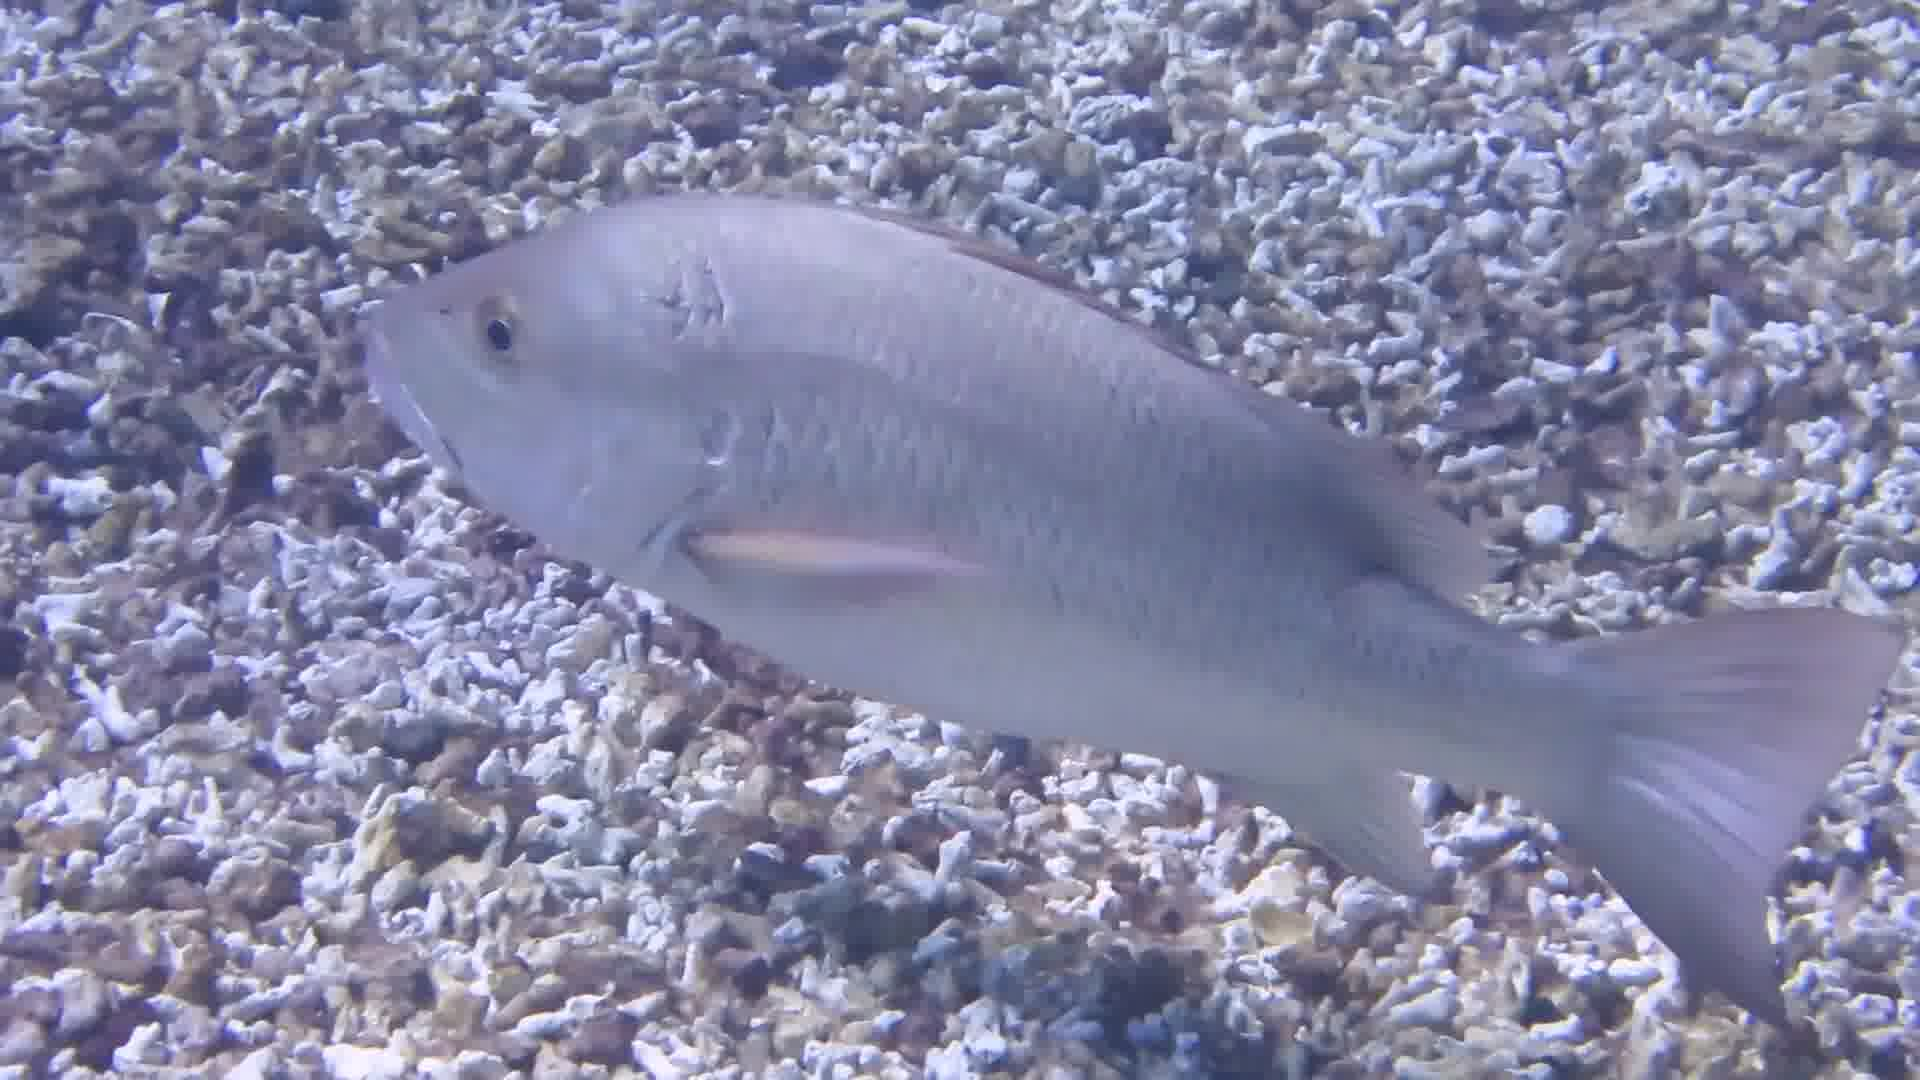Lutjanus argentimaculatus: (357, 207, 1818, 959)
